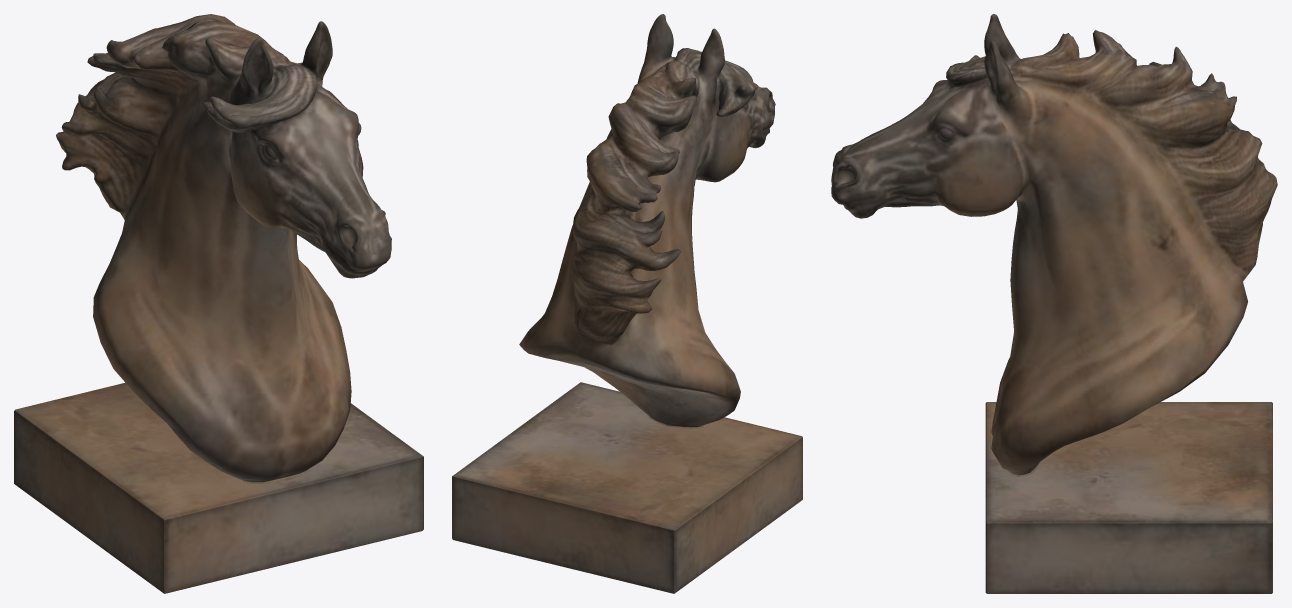
The picture shows the model from 3 angles, left to right: view 1: azimuth 30°, elevation 25°; view 2: azimuth 150°, elevation 25°; view 3: azimuth 270°, elevation 25°; orthographic projection. The views are drawn at different scales.
Parts seen in each view (by area): view 1: horse_head; view 2: horse_head; view 3: horse_head.
Boxes of the visible parts, x1,y1,x2,y2 form: horse_head: (14, 14, 423, 593); horse_head: (452, 14, 802, 593); horse_head: (831, 14, 1277, 593).
Bounding box in the file's own units: 0.2149 × 0.4187 × 0.3341.
1 material, 1 textured.
